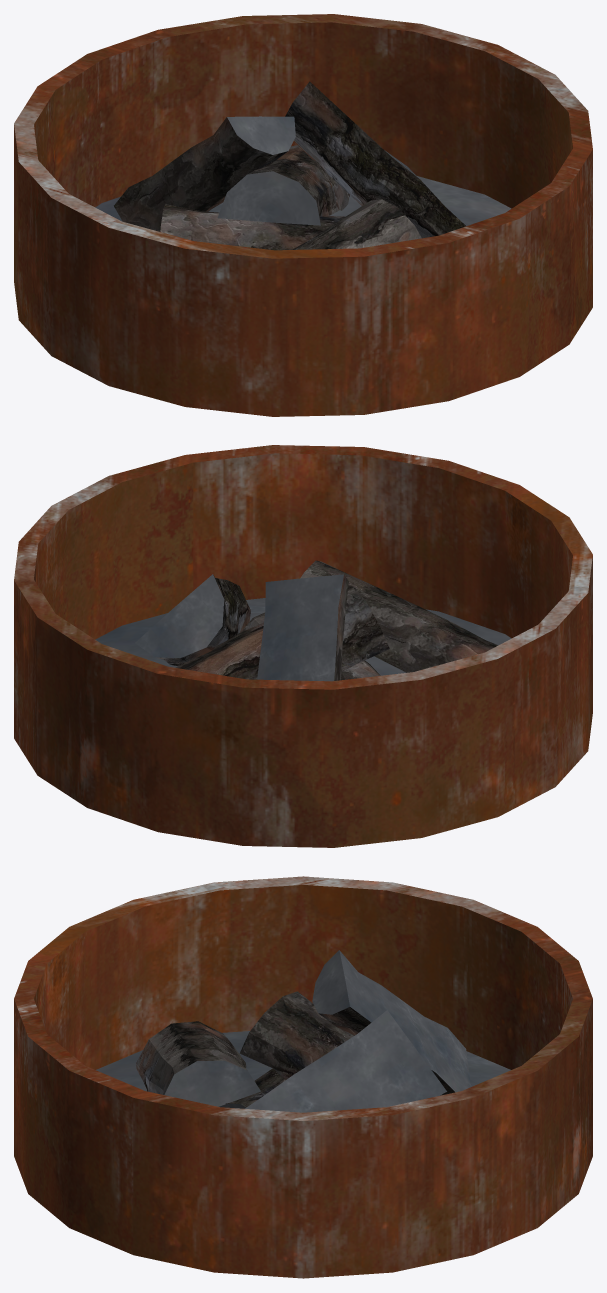
Rendered from FirePit.fbx.
3 views of the same model, one above another, from view 1: azimuth 30°, elevation 25°; view 2: azimuth 150°, elevation 25°; view 3: azimuth 270°, elevation 25° (orthographic).
Parts seen in each view (by area): view 1: pCylinder9; view 2: pCylinder9; view 3: pCylinder9.
Boxes of the visible parts, left/top/right/bottom form: pCylinder9: left=14, top=14, right=592, bottom=416; pCylinder9: left=14, top=445, right=592, bottom=847; pCylinder9: left=14, top=876, right=592, bottom=1278.
Size of the model in its own units: 2 by 0.6777 by 2.
3 materials, 3 textured.
